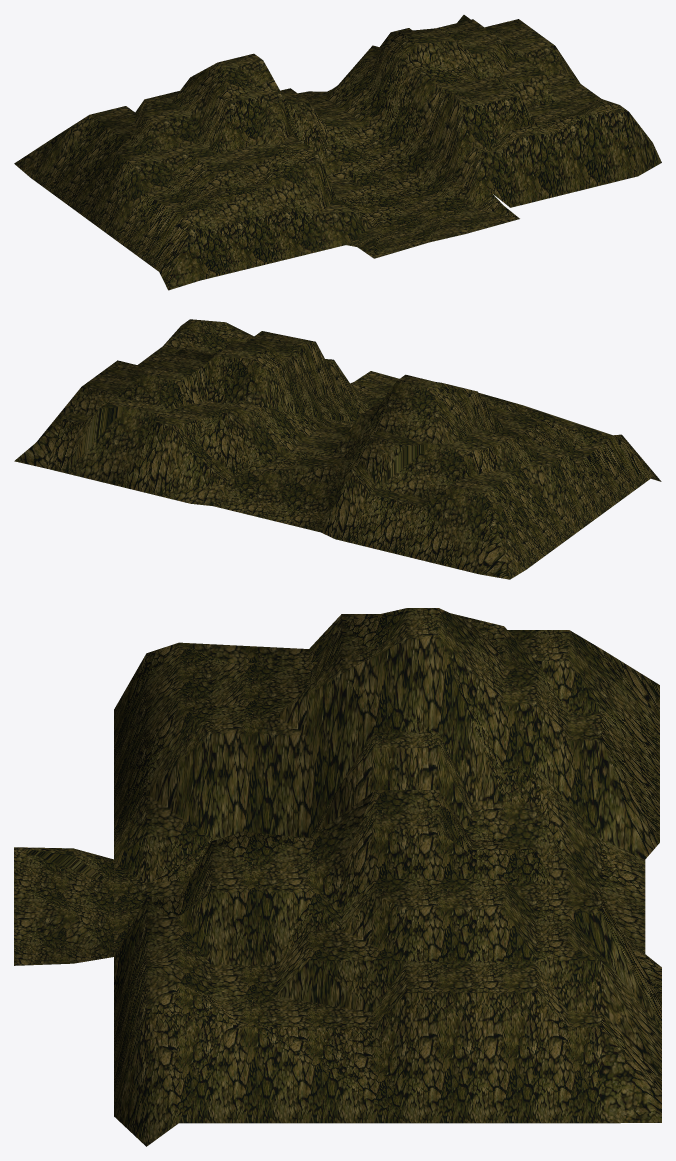
The model's file is DWARF_PALACE_FORGE_COAL.fbx.
3 renders of one model, top to bottom at view 1: azimuth 30°, elevation 25°; view 2: azimuth 150°, elevation 25°; view 3: azimuth 270°, elevation 25°, orthographic. The views are drawn at different scales.
Visible parts, largest first — view 1: DWARF_PALACE_FORGE_COAL; view 2: DWARF_PALACE_FORGE_COAL; view 3: DWARF_PALACE_FORGE_COAL.
Boxes of the visible parts, bbox=[...] form: DWARF_PALACE_FORGE_COAL: bbox=[14, 15, 661, 290]; DWARF_PALACE_FORGE_COAL: bbox=[14, 319, 661, 579]; DWARF_PALACE_FORGE_COAL: bbox=[14, 608, 661, 1146].
Size of the model in its own units: 199434 by 48496 by 125787.
1 material, 1 textured.
